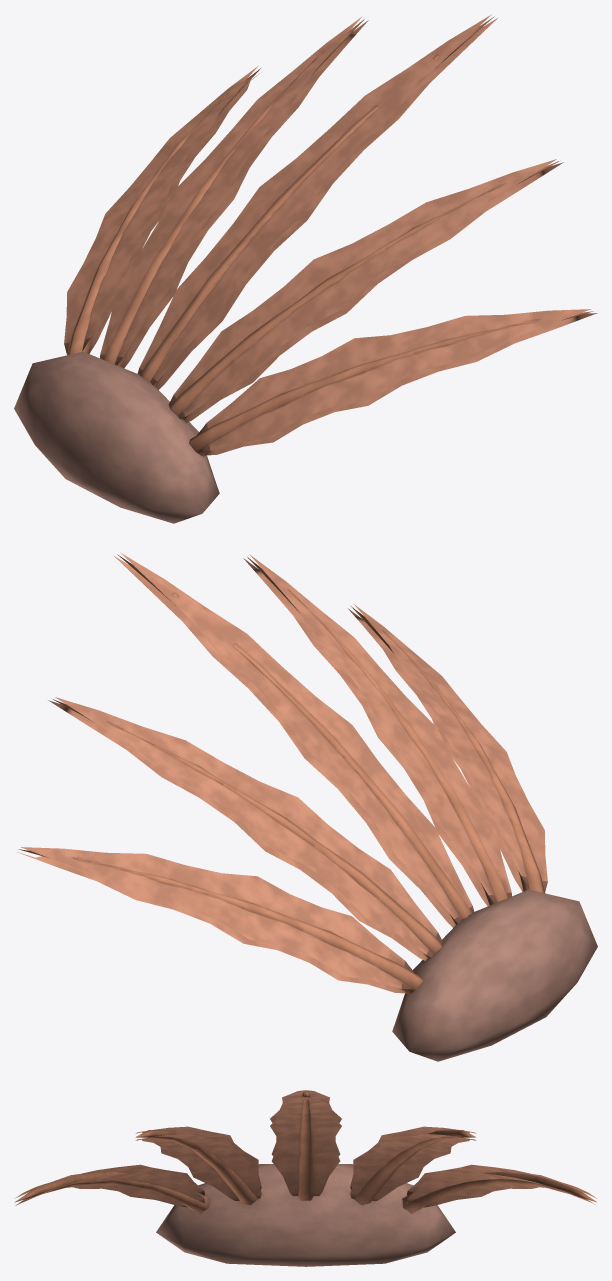
File: cpart_gill_fan.glb
3 renders of one model, top to bottom at view 1: azimuth 30°, elevation 25°; view 2: azimuth 150°, elevation 25°; view 3: azimuth 270°, elevation 25°, orthographic. The views are drawn at different scales.
Parts seen in each view (by area): view 1: GillPlumes, GillFan; view 2: GillPlumes, GillFan; view 3: GillFan, GillPlumes.
Boxes of the visible parts, x1,y1,x2,y2 form: GillPlumes: (64,14,597,455); GillFan: (14,16,592,523); GillPlumes: (17,552,547,993); GillFan: (19,554,597,1061); GillFan: (15,1092,596,1266); GillPlumes: (15,1090,596,1207).
Bounding box in the file's own units: 0.1296 × 0.1024 × 0.1712.
3 materials, 3 textured.
